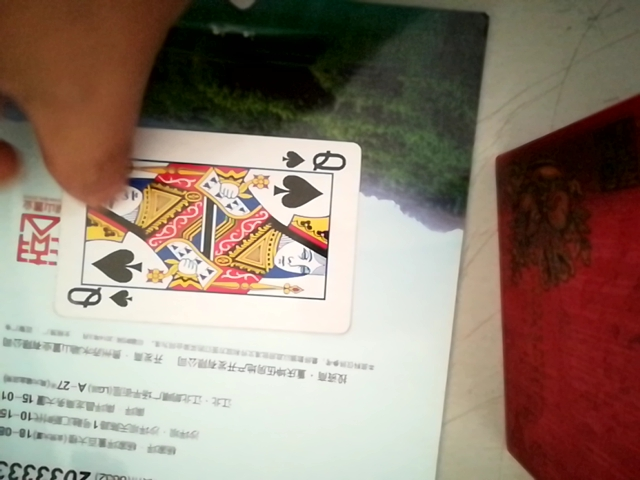ht q: (49, 126, 363, 338)
